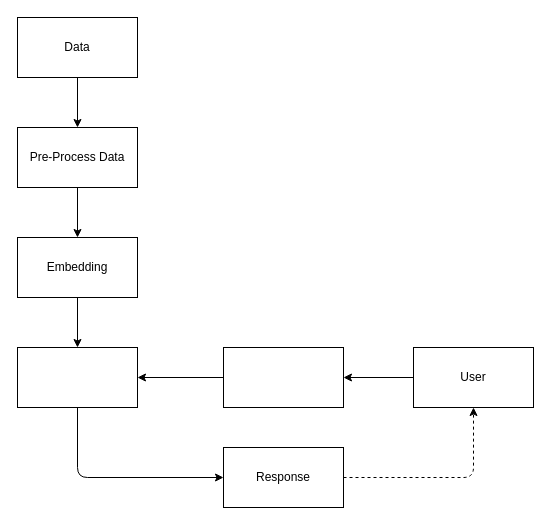
Some shapes in this 551 by 525 pixel diagram are drawn without their labels. Each missing label, with the centre of its shape:
"LLM" goes at (77,377).
"Prompt" goes at (283,377).
